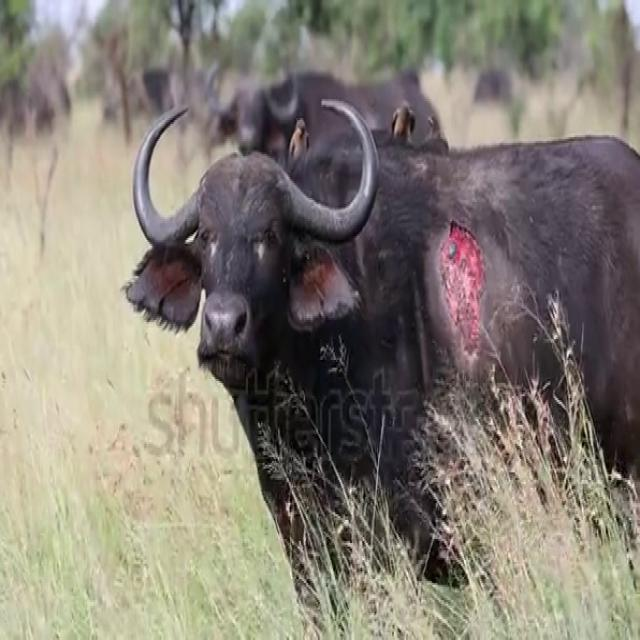injured-animals: (120, 89, 637, 612)
